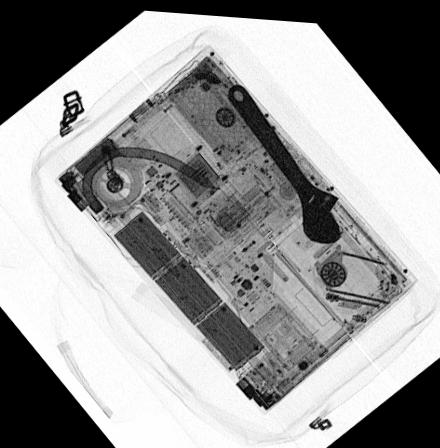Wrench: (226, 80, 342, 239)
